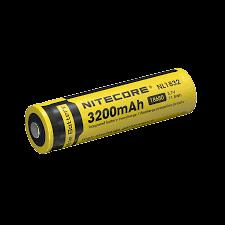Battery: (23, 68, 198, 155)
